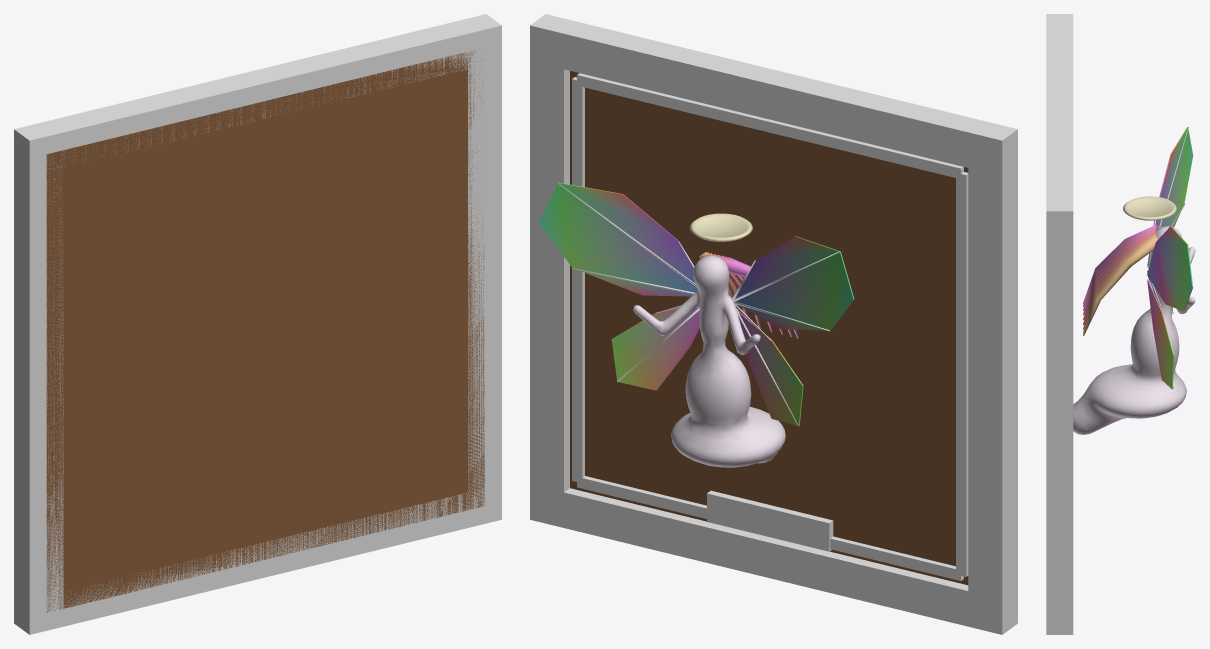
The model's file is empress_of_light_trophy_v0.glb.
3 views of the same model, side by side, from view 1: azimuth 30°, elevation 25°; view 2: azimuth 150°, elevation 25°; view 3: azimuth 270°, elevation 25° (orthographic). The views are drawn at different scales.
Parts seen in each view (by area): view 1: empress_of_light_trophy_v0; view 2: empress_of_light_trophy_v0; view 3: empress_of_light_trophy_v0.
Boxes of the visible parts, x1,y1,x2,y2 form: empress_of_light_trophy_v0: (14,14,501,634); empress_of_light_trophy_v0: (530,14,1017,634); empress_of_light_trophy_v0: (1046,14,1195,634).
Size of the model in its own units: 1.39 by 1.39 by 0.444.
